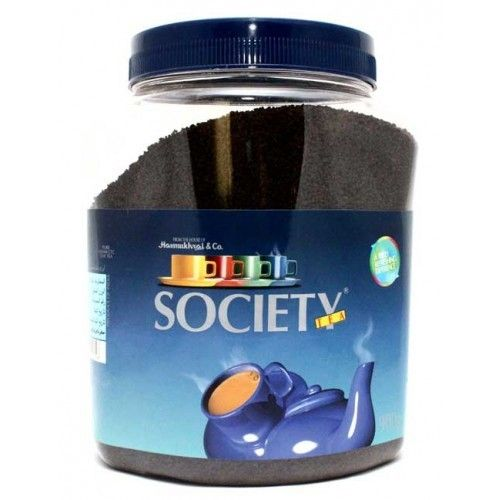society: (80, 178, 414, 480)
